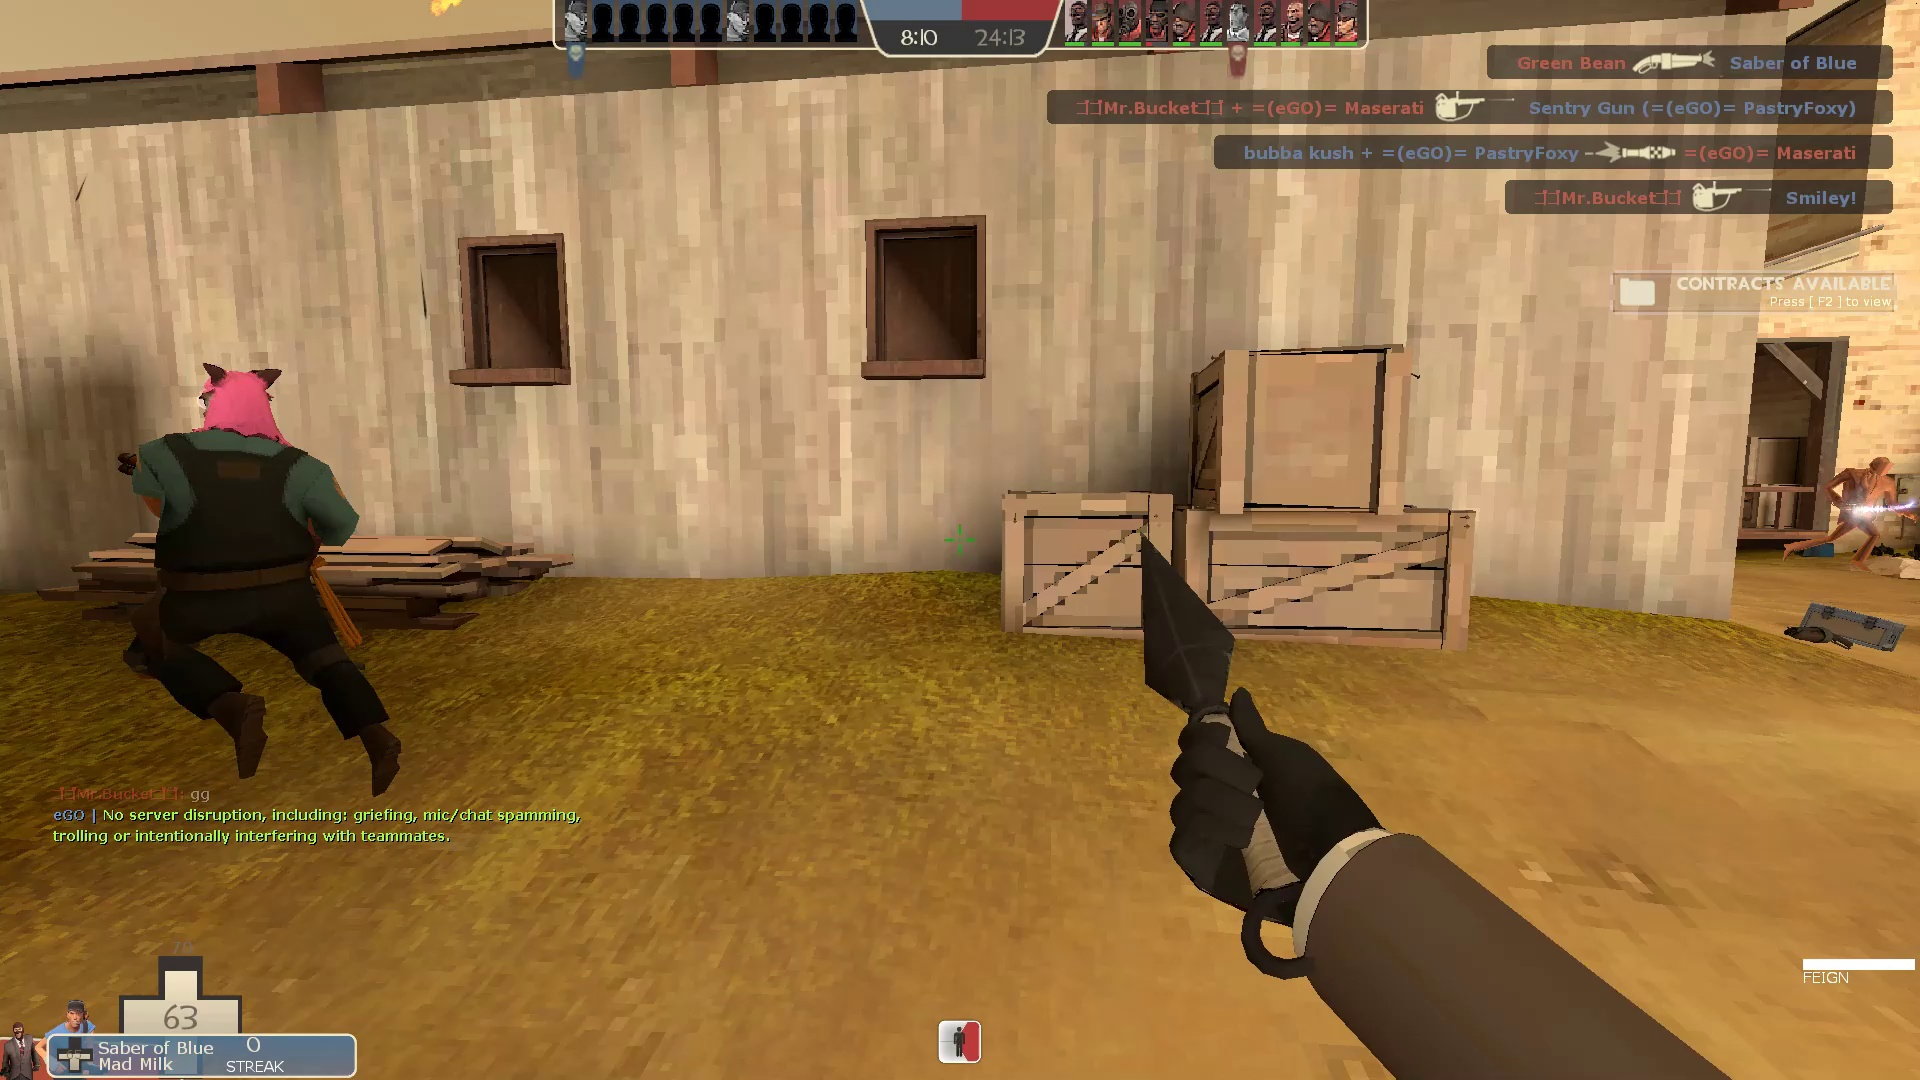blu_engineer: (103, 361, 409, 804)
red_spy_invisible: (1775, 454, 1920, 579)
